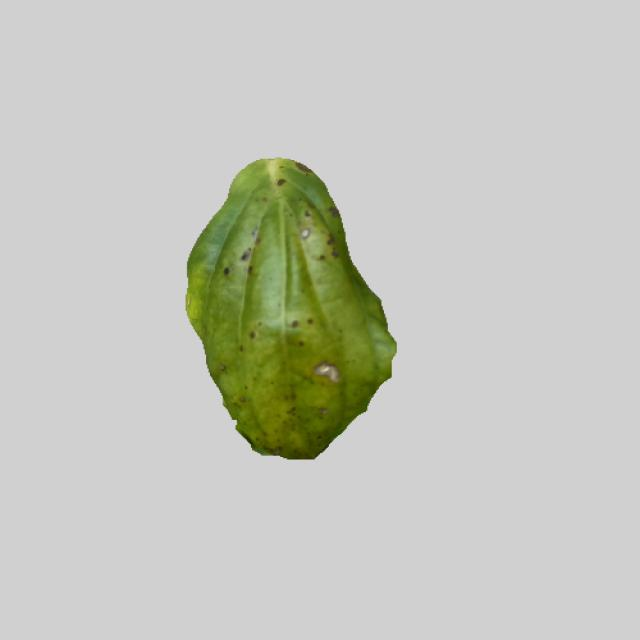yellow-mottle-virus: (161, 147, 401, 460)
